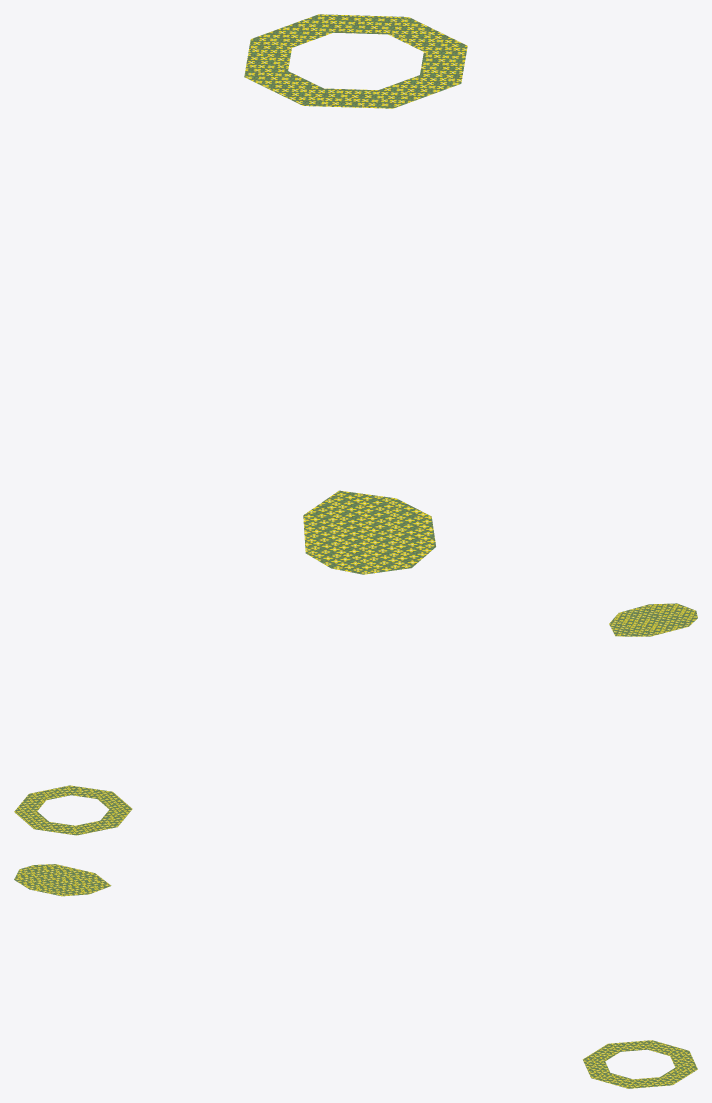
Rendered from kd_stage_1363c5_11_9_bounded.glb.
3 views of the same model, one above another, from view 1: azimuth 30°, elevation 25°; view 2: azimuth 150°, elevation 25°; view 3: azimuth 270°, elevation 25° (orthographic). The views are drawn at different scales.
Parts seen in each view (by area): view 1: kd_stage_1363c5_11_9_bounded; view 2: kd_stage_1363c5_11_9_bounded; view 3: kd_stage_1363c5_11_9_bounded.
Part boxes in pixels (x1,y1,x2,y2): kd_stage_1363c5_11_9_bounded: (244, 14, 467, 574); kd_stage_1363c5_11_9_bounded: (14, 603, 697, 835); kd_stage_1363c5_11_9_bounded: (14, 864, 697, 1088).
Bounding box in the file's own units: 10.79 × 1.28 × 17.39.
1 material, 1 textured.
